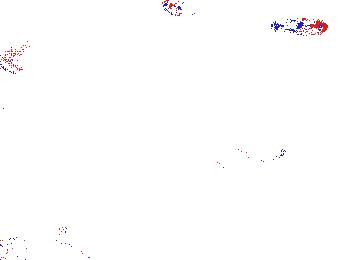red belly glassfish: (270, 18, 329, 37), (159, 1, 202, 23)
redtail glassfish: (1, 226, 72, 260), (216, 144, 288, 174)
